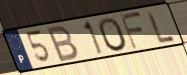1: (82, 20, 106, 56)
5: (23, 29, 52, 65)
B: (46, 24, 81, 64)
F: (118, 11, 146, 52)
L: (145, 9, 178, 45)
O: (97, 16, 129, 53)
